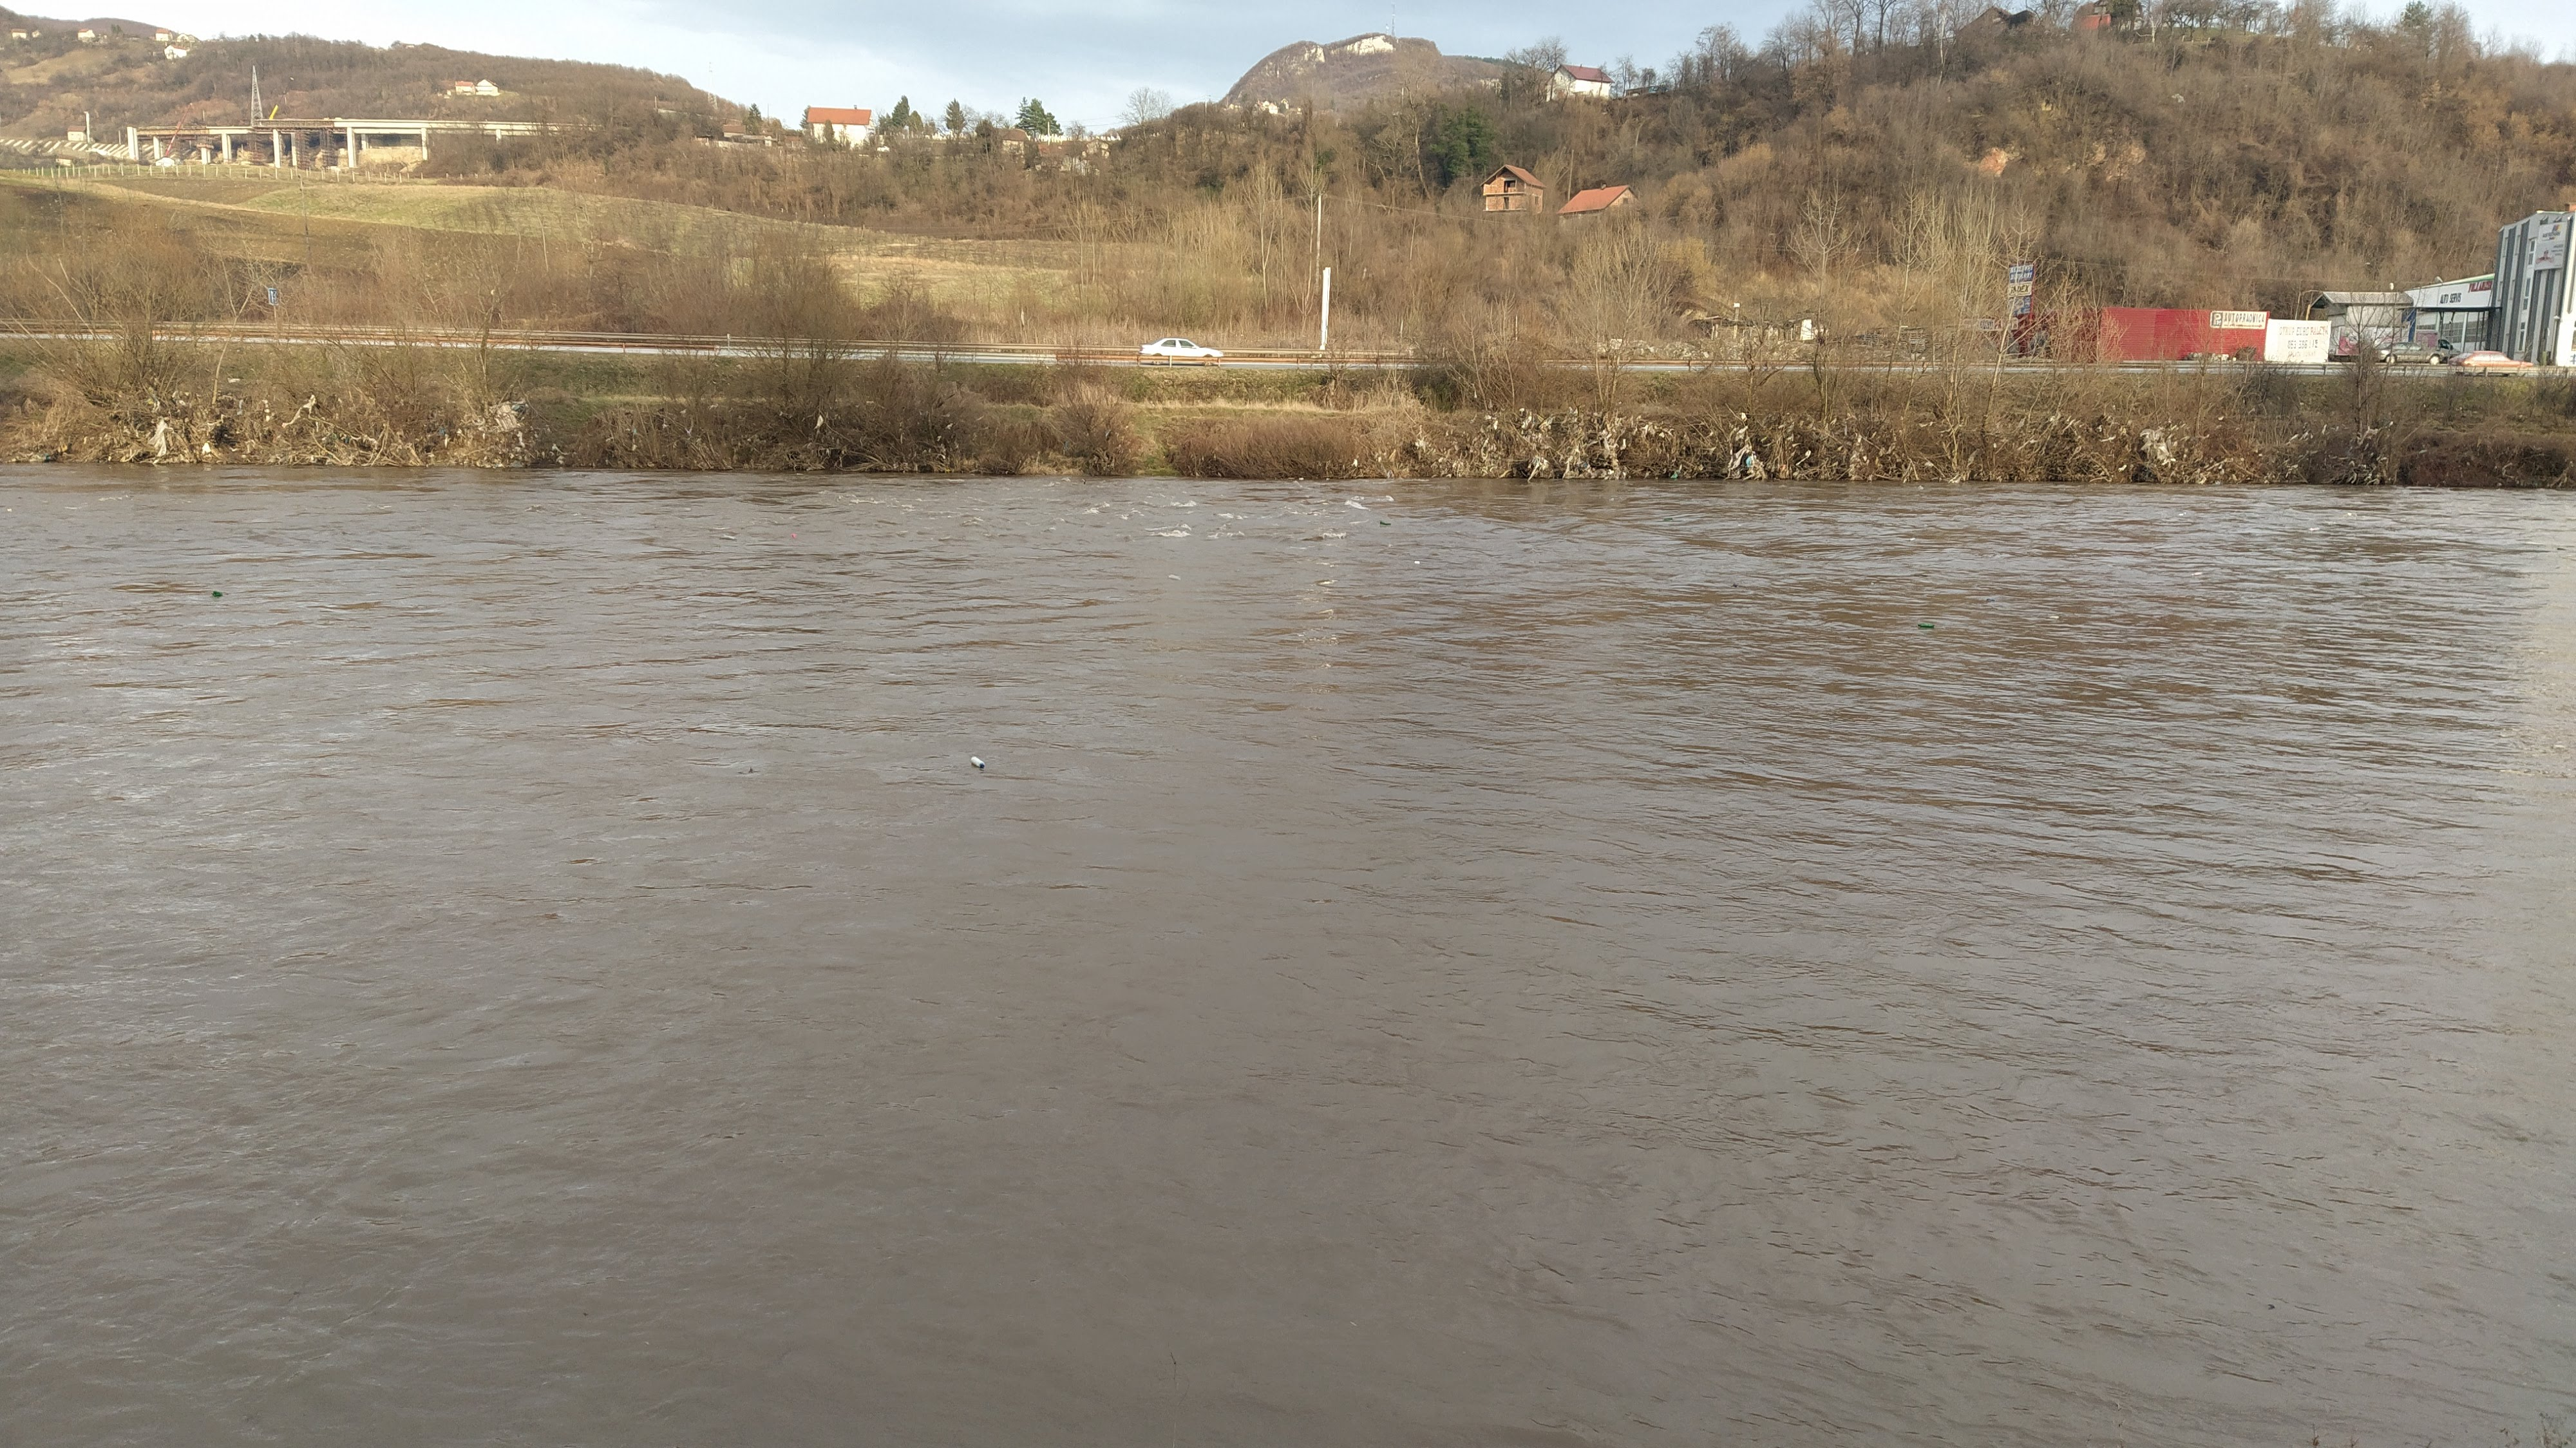Plastic Bottle: (971, 756, 985, 768), (1918, 623, 1934, 628), (1168, 574, 1178, 581), (1380, 520, 1391, 526), (212, 591, 221, 597), (1914, 574, 1927, 577), (2049, 616, 2059, 620), (2192, 572, 2203, 575), (1663, 517, 1672, 520), (2309, 528, 2318, 531), (1909, 536, 1914, 542), (791, 533, 796, 536), (2178, 512, 2183, 515)
